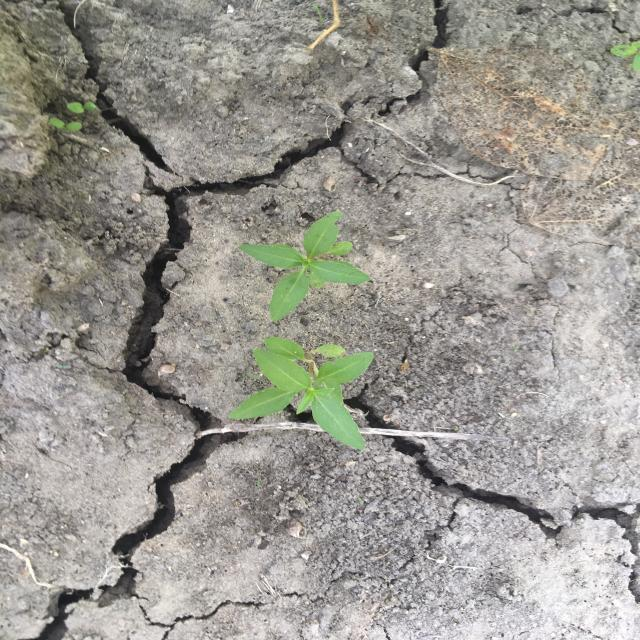Eclipta: (227, 335, 378, 452), (235, 209, 375, 325)
